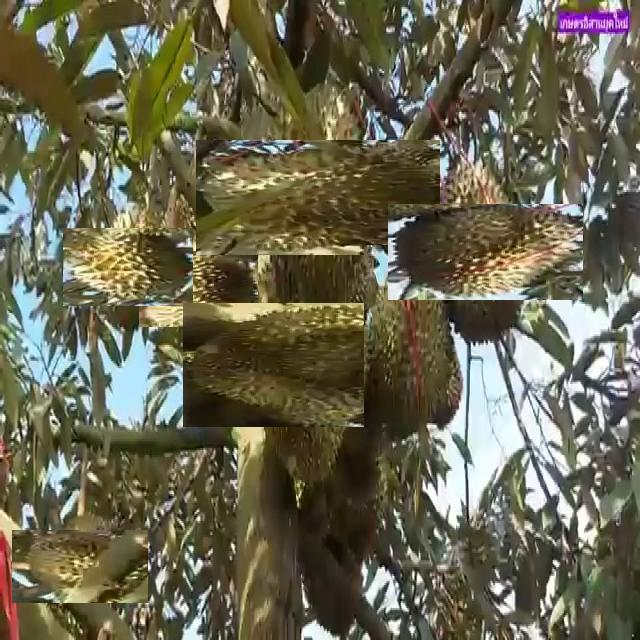durian: (214, 272, 402, 459), (228, 108, 408, 288), (412, 179, 558, 325), (364, 245, 468, 437), (28, 513, 132, 619), (76, 215, 181, 319), (150, 239, 248, 338)
